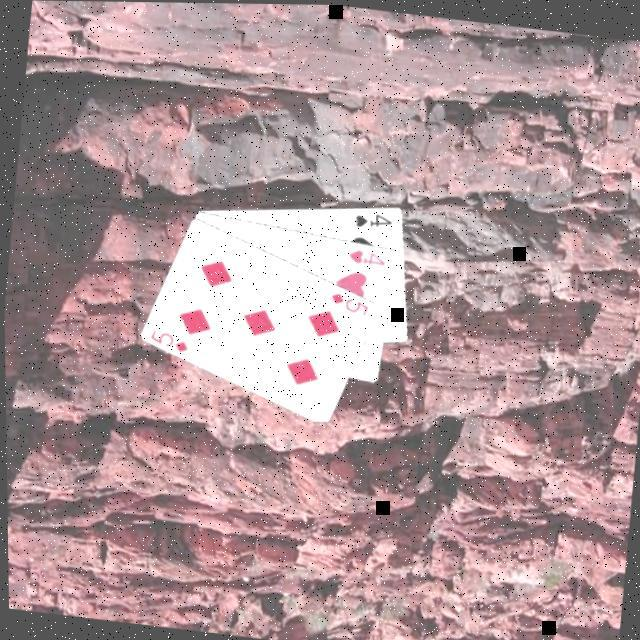4H: (346, 245, 390, 270)
4S: (351, 208, 396, 235)
5D: (327, 288, 372, 320), (146, 327, 192, 358)
